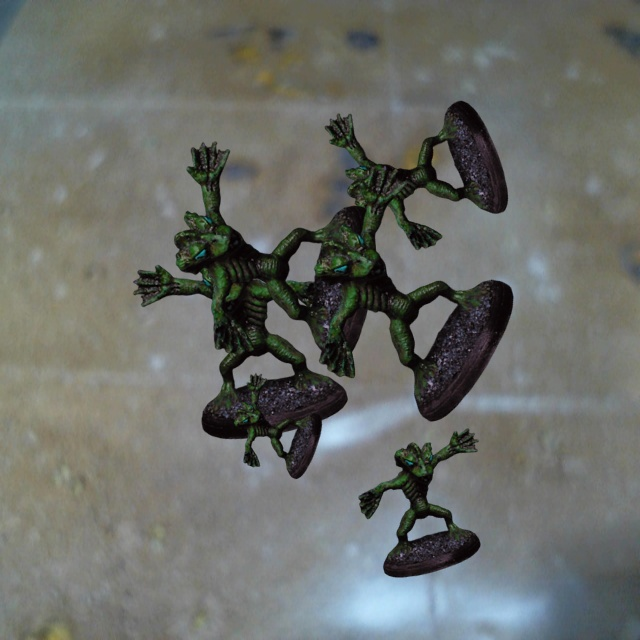pieza_juego: (314, 165, 513, 421), (174, 141, 375, 361), (133, 249, 347, 438), (324, 101, 507, 249), (358, 428, 480, 577), (234, 373, 321, 478)
